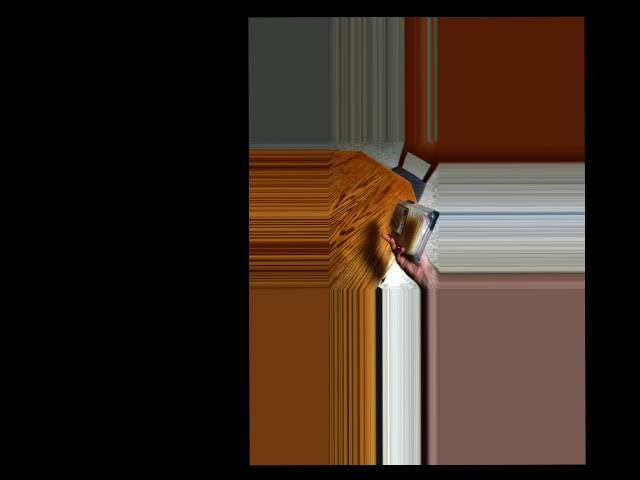cheese: (388, 199, 435, 255)
